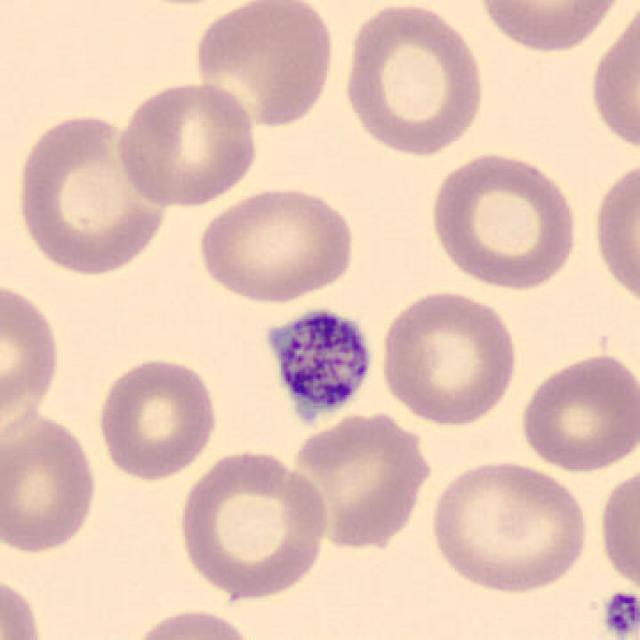Platelets: (258, 303, 377, 430), (597, 587, 640, 640)
RBC: (12, 108, 172, 278), (175, 444, 332, 603), (338, 0, 489, 159), (427, 455, 592, 596), (425, 148, 581, 293), (284, 407, 436, 552), (377, 286, 523, 428), (192, 182, 359, 305), (112, 78, 261, 210), (190, 0, 338, 132), (92, 354, 220, 483), (516, 349, 636, 474), (0, 409, 101, 557), (0, 277, 64, 434), (471, 0, 629, 55), (586, 1, 640, 158), (588, 154, 638, 310), (596, 460, 638, 596), (126, 606, 261, 640), (0, 569, 46, 640)
